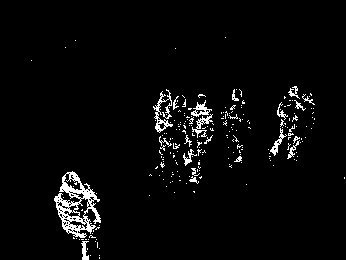person: (53, 170, 106, 260), (158, 94, 194, 171), (185, 92, 214, 186), (222, 86, 252, 169), (268, 84, 302, 157), (287, 91, 316, 160), (151, 86, 172, 168)
